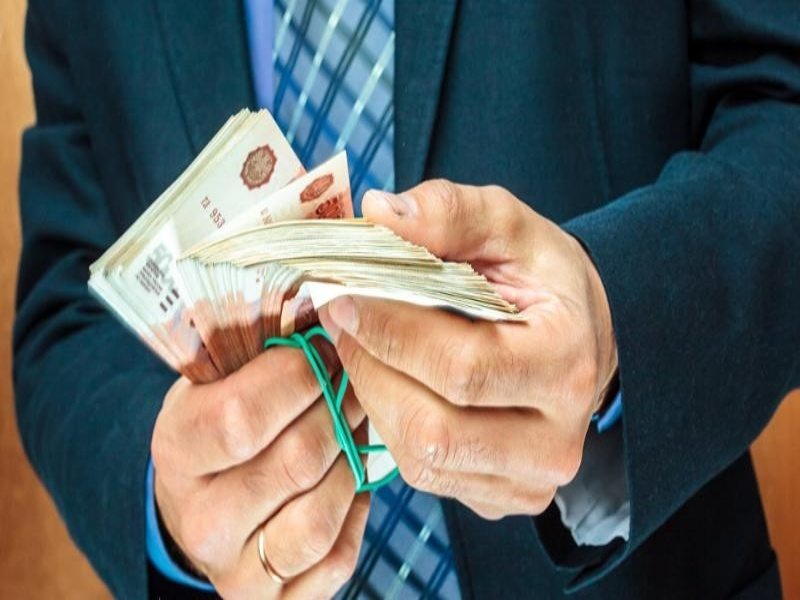cash: (87, 107, 529, 484)
person: (12, 1, 800, 600)
